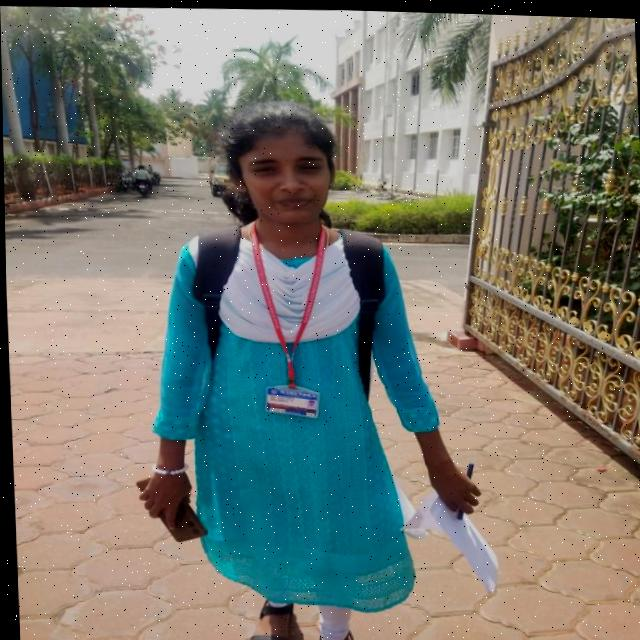id_card: (247, 216, 331, 421)
